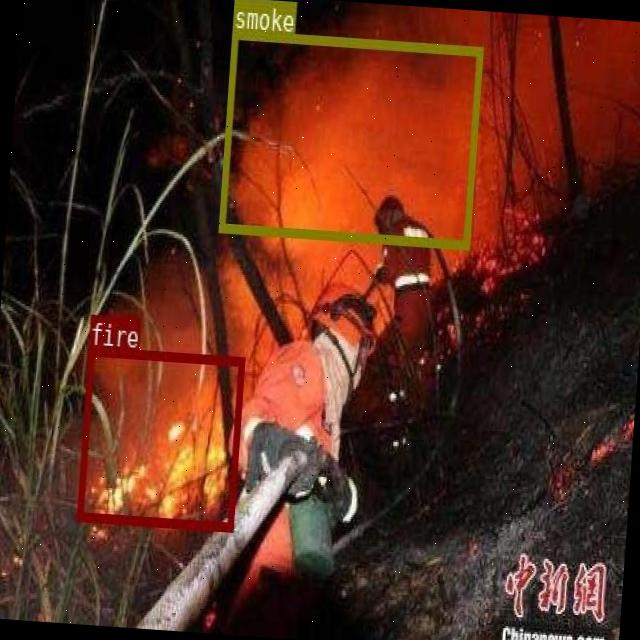fire: (75, 346, 244, 528)
smoke: (217, 27, 483, 247)
